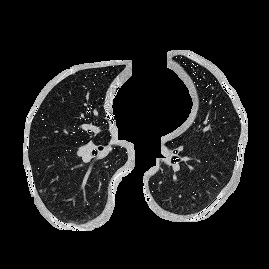PN: (38, 189, 42, 193)
